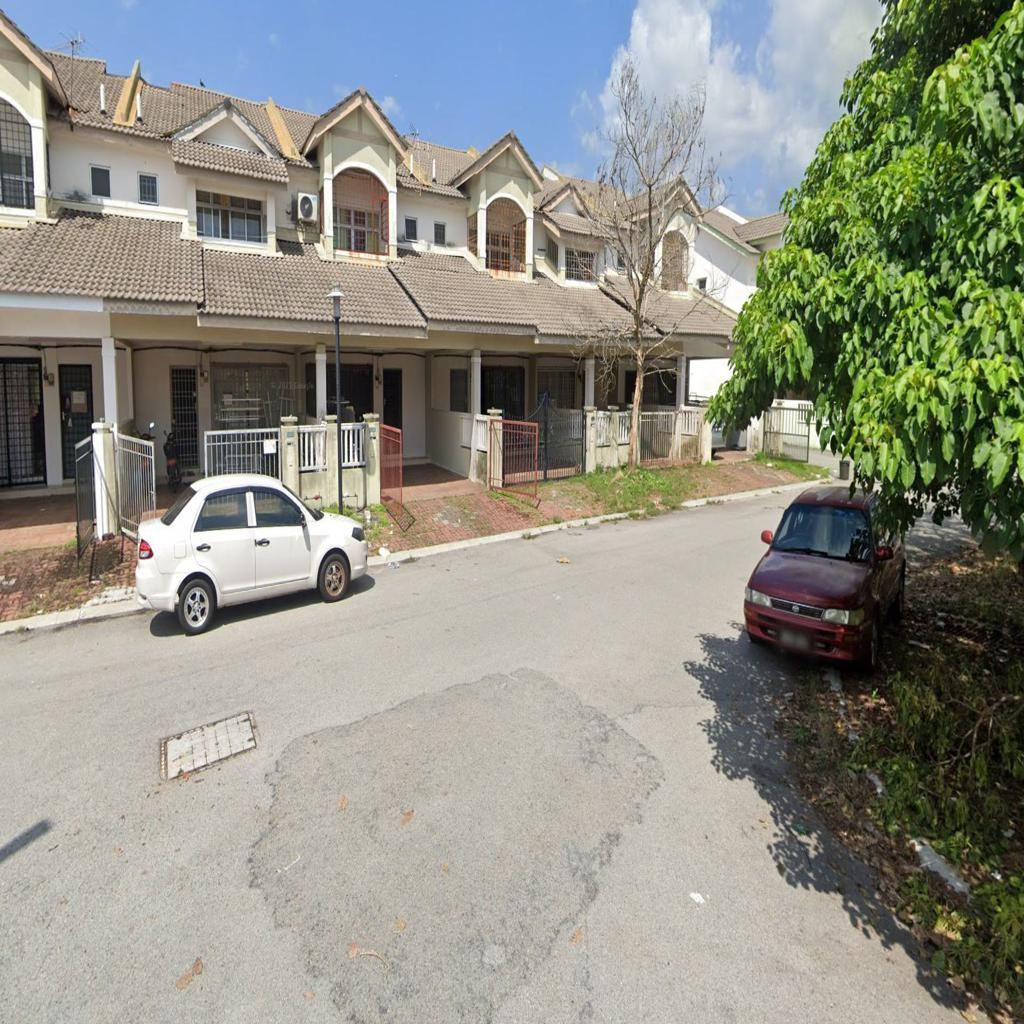Junction: (545, 470, 954, 732)
